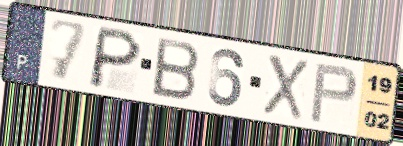6: (207, 47, 246, 109)
7: (47, 16, 89, 85)
B: (151, 35, 202, 102)
P: (85, 24, 144, 91), (307, 62, 360, 126)
X: (260, 51, 310, 123)
